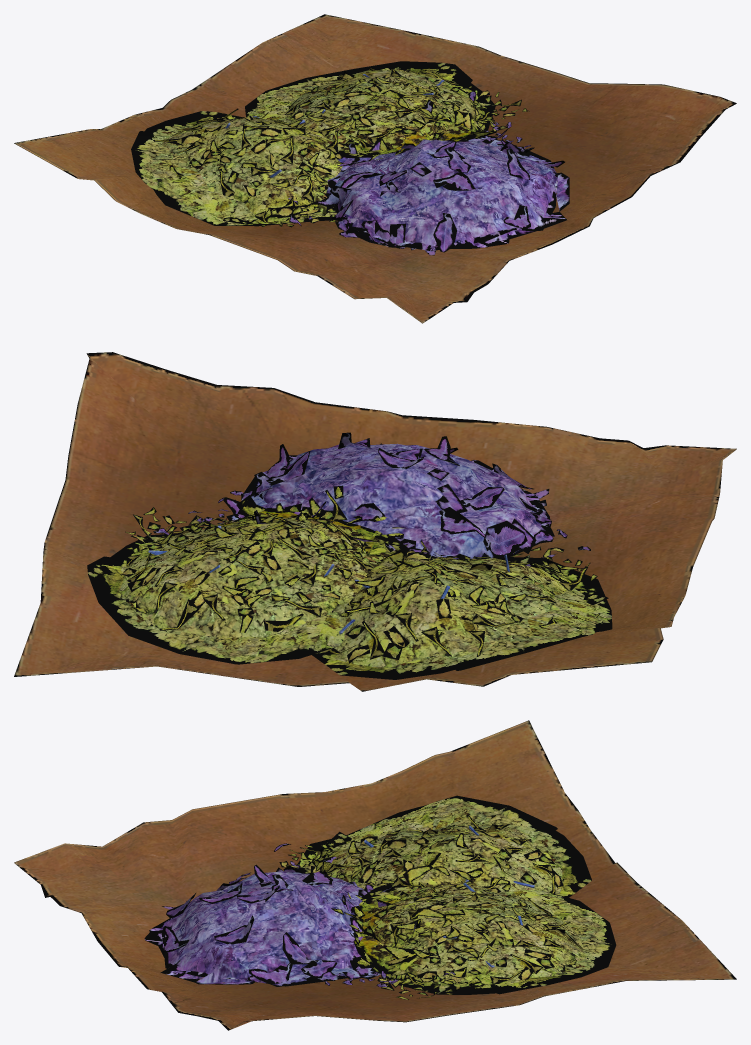
File: 007_GreenGreenBlue_Herb.fbx
3 views of the same model, one above another, from view 1: azimuth 30°, elevation 25°; view 2: azimuth 150°, elevation 25°; view 3: azimuth 270°, elevation 25° (orthographic). The views are drawn at different scales.
Visible parts, largest first — view 1: LOD_1_Group_0_Sub_1__sm70_006_HerbsGB01A_B_Mat, LOD_1_Group_1_Sub_1__sm70_006_HerbsGB01A_B_Mat, LOD_1_Group_2_Sub_1__sm70_006_HerbsGB01A_B_Mat, LOD_1_Group_4_Sub_1__sm70_006_HerbsGB01A_B_Mat; view 2: LOD_1_Group_0_Sub_1__sm70_006_HerbsGB01A_B_Mat, LOD_1_Group_4_Sub_1__sm70_006_HerbsGB01A_B_Mat, LOD_1_Group_2_Sub_1__sm70_006_HerbsGB01A_B_Mat, LOD_1_Group_1_Sub_1__sm70_006_HerbsGB01A_B_Mat; view 3: LOD_1_Group_0_Sub_1__sm70_006_HerbsGB01A_B_Mat, LOD_1_Group_4_Sub_1__sm70_006_HerbsGB01A_B_Mat, LOD_1_Group_1_Sub_1__sm70_006_HerbsGB01A_B_Mat, LOD_1_Group_2_Sub_1__sm70_006_HerbsGB01A_B_Mat.
Part boxes in pixels (left/top/right/bottom): LOD_1_Group_0_Sub_1__sm70_006_HerbsGB01A_B_Mat: left=14, top=14, right=736, bottom=323; LOD_1_Group_1_Sub_1__sm70_006_HerbsGB01A_B_Mat: left=288, top=91, right=569, bottom=255; LOD_1_Group_2_Sub_1__sm70_006_HerbsGB01A_B_Mat: left=131, top=108, right=355, bottom=227; LOD_1_Group_4_Sub_1__sm70_006_HerbsGB01A_B_Mat: left=245, top=61, right=529, bottom=163; LOD_1_Group_0_Sub_1__sm70_006_HerbsGB01A_B_Mat: left=14, top=352, right=736, bottom=691; LOD_1_Group_4_Sub_1__sm70_006_HerbsGB01A_B_Mat: left=87, top=485, right=427, bottom=664; LOD_1_Group_2_Sub_1__sm70_006_HerbsGB01A_B_Mat: left=312, top=546, right=612, bottom=679; LOD_1_Group_1_Sub_1__sm70_006_HerbsGB01A_B_Mat: left=153, top=432, right=590, bottom=566; LOD_1_Group_0_Sub_1__sm70_006_HerbsGB01A_B_Mat: left=14, top=720, right=736, bottom=1030; LOD_1_Group_4_Sub_1__sm70_006_HerbsGB01A_B_Mat: left=331, top=881, right=616, bottom=999; LOD_1_Group_1_Sub_1__sm70_006_HerbsGB01A_B_Mat: left=144, top=843, right=455, bottom=987; LOD_1_Group_2_Sub_1__sm70_006_HerbsGB01A_B_Mat: left=279, top=795, right=591, bottom=897.
Size of the model in its own units: 0.2906 by 0.0331 by 0.2875.
